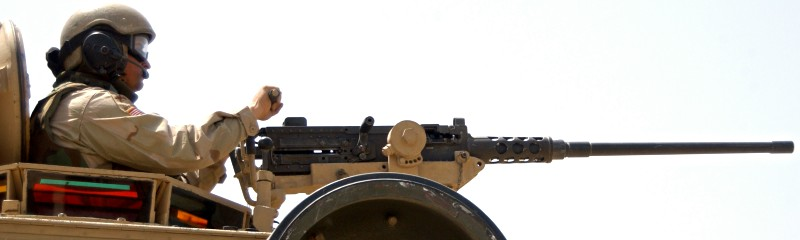rifle: (261, 113, 796, 188)
rifle in hand: (227, 71, 798, 198)
